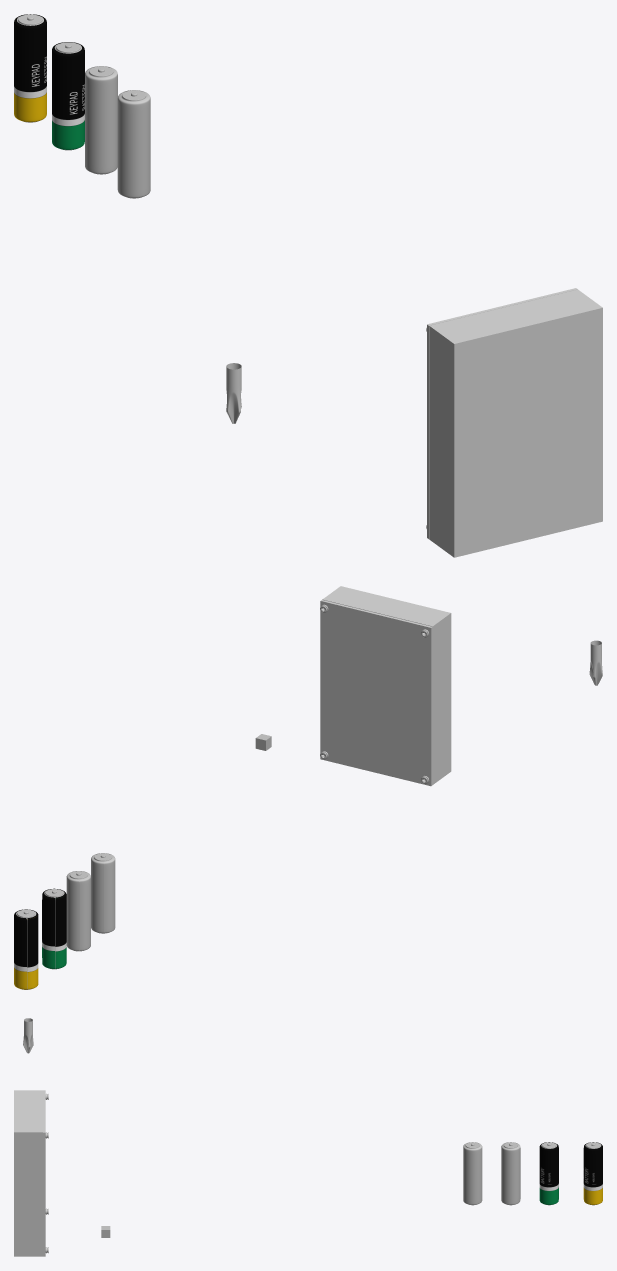
The model's file is dfg.fbx.
3 views of the same model, one above another, from view 1: azimuth 30°, elevation 25°; view 2: azimuth 150°, elevation 25°; view 3: azimuth 270°, elevation 25° (orthographic). The views are drawn at different scales.
Parts seen in each view (by area): view 1: KeyPadBack, Battery, Battery_04, Battery_02, Battery_03, Cube, Screwdriver; view 2: Cube, KeyPadBack, Battery_02, Battery_03, Battery_04, Battery; view 3: KeyPadBack, Battery_02, Battery, Battery_03, Battery_04, Cube.
Part boxes in pixels (x1=…): KeyPadBack: x1=429, y1=289, x2=602, y2=557; Battery: x1=117, y1=90, x2=150, y2=198; Battery_04: x1=14, y1=14, x2=46, y2=122; Battery_02: x1=85, y1=66, x2=117, y2=174; Battery_03: x1=52, y1=42, x2=84, y2=150; Cube: x1=427, y1=288, x2=577, y2=538; Screwdriver: x1=226, y1=363, x2=241, y2=423; Cube: x1=320, y1=600, x2=432, y2=786; KeyPadBack: x1=322, y1=586, x2=451, y2=784; Battery_02: x1=66, y1=734, x2=271, y2=951; Battery_03: x1=42, y1=888, x2=66, y2=969; Battery_04: x1=14, y1=909, x2=38, y2=989; Battery: x1=91, y1=853, x2=115, y2=933; KeyPadBack: x1=14, y1=1090, x2=42, y2=1256; Battery_02: x1=101, y1=1142, x2=520, y2=1237; Battery: x1=463, y1=1142, x2=482, y2=1205; Battery_03: x1=539, y1=1142, x2=558, y2=1205; Battery_04: x1=583, y1=1142, x2=602, y2=1205; Cube: x1=43, y1=1090, x2=45, y2=1256.
Size of the model in its own units: 5813 by 3268 by 12868.
